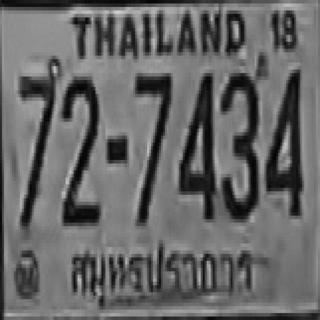N02: (60, 73, 97, 222)
N03: (220, 70, 257, 216)
N04: (177, 70, 215, 219), (264, 68, 300, 214)
N07: (17, 66, 57, 226), (133, 70, 171, 222)
P57: (64, 238, 260, 320)
